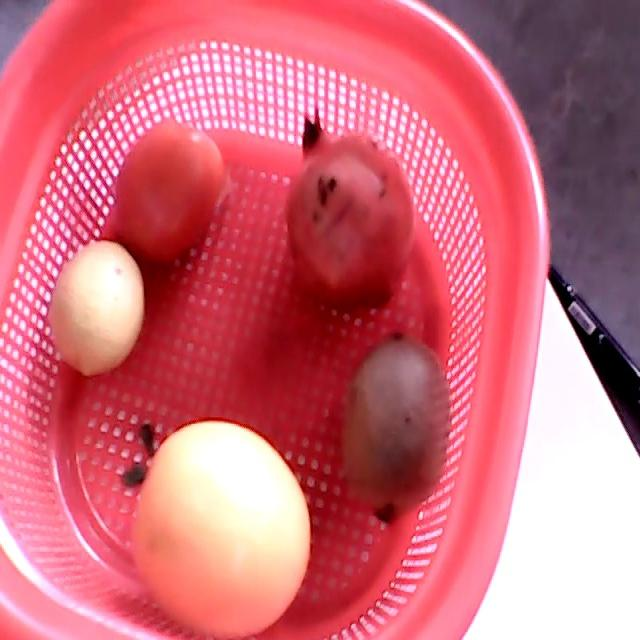kiwi: (342, 336, 449, 522)
lemon: (49, 239, 144, 376)
orange: (121, 421, 309, 638)
pomegranate: (287, 109, 416, 311)
tomato: (115, 117, 223, 265)
